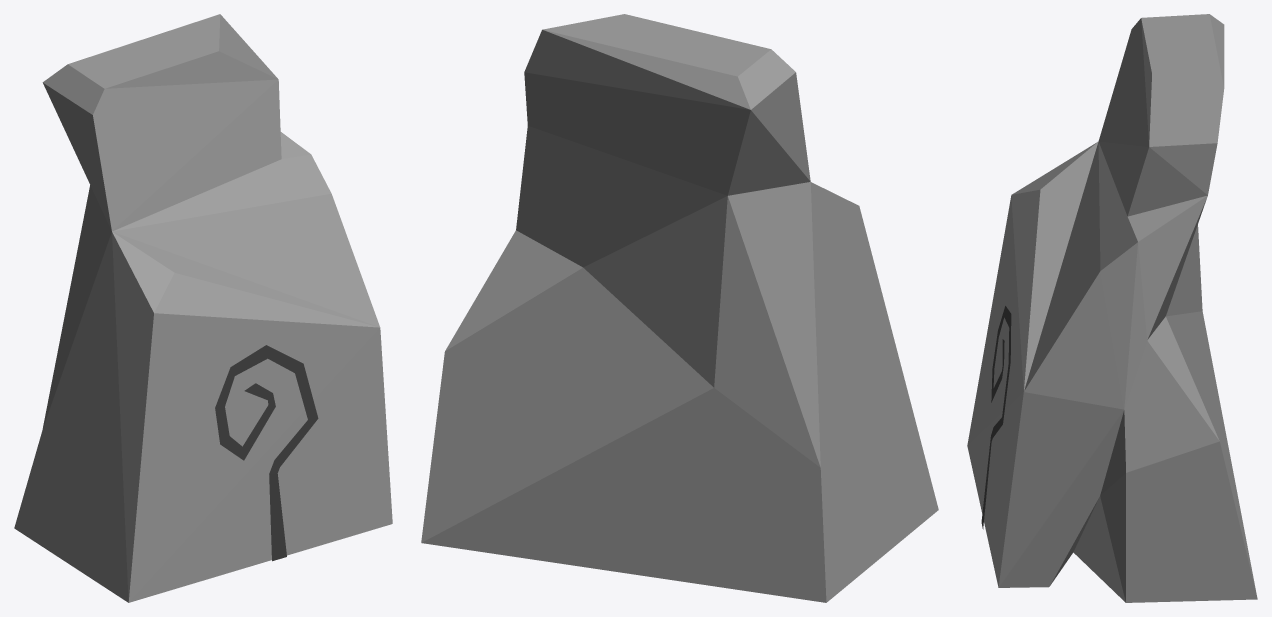
File: stones_010.glb
The picture shows the model from 3 angles, left to right: view 1: azimuth 30°, elevation 25°; view 2: azimuth 150°, elevation 25°; view 3: azimuth 270°, elevation 25°; orthographic projection. The views are drawn at different scales.
Parts seen in each view (by area): view 1: stones_010; view 2: stones_010; view 3: stones_010.
Part boxes in pixels (bbox=[...]): stones_010: bbox=[14, 14, 392, 602]; stones_010: bbox=[421, 14, 938, 602]; stones_010: bbox=[967, 14, 1257, 602].
Bounding box in the file's own units: 2.54 × 3.41 × 1.92.
Materials: 1 (1 with a texture image).
